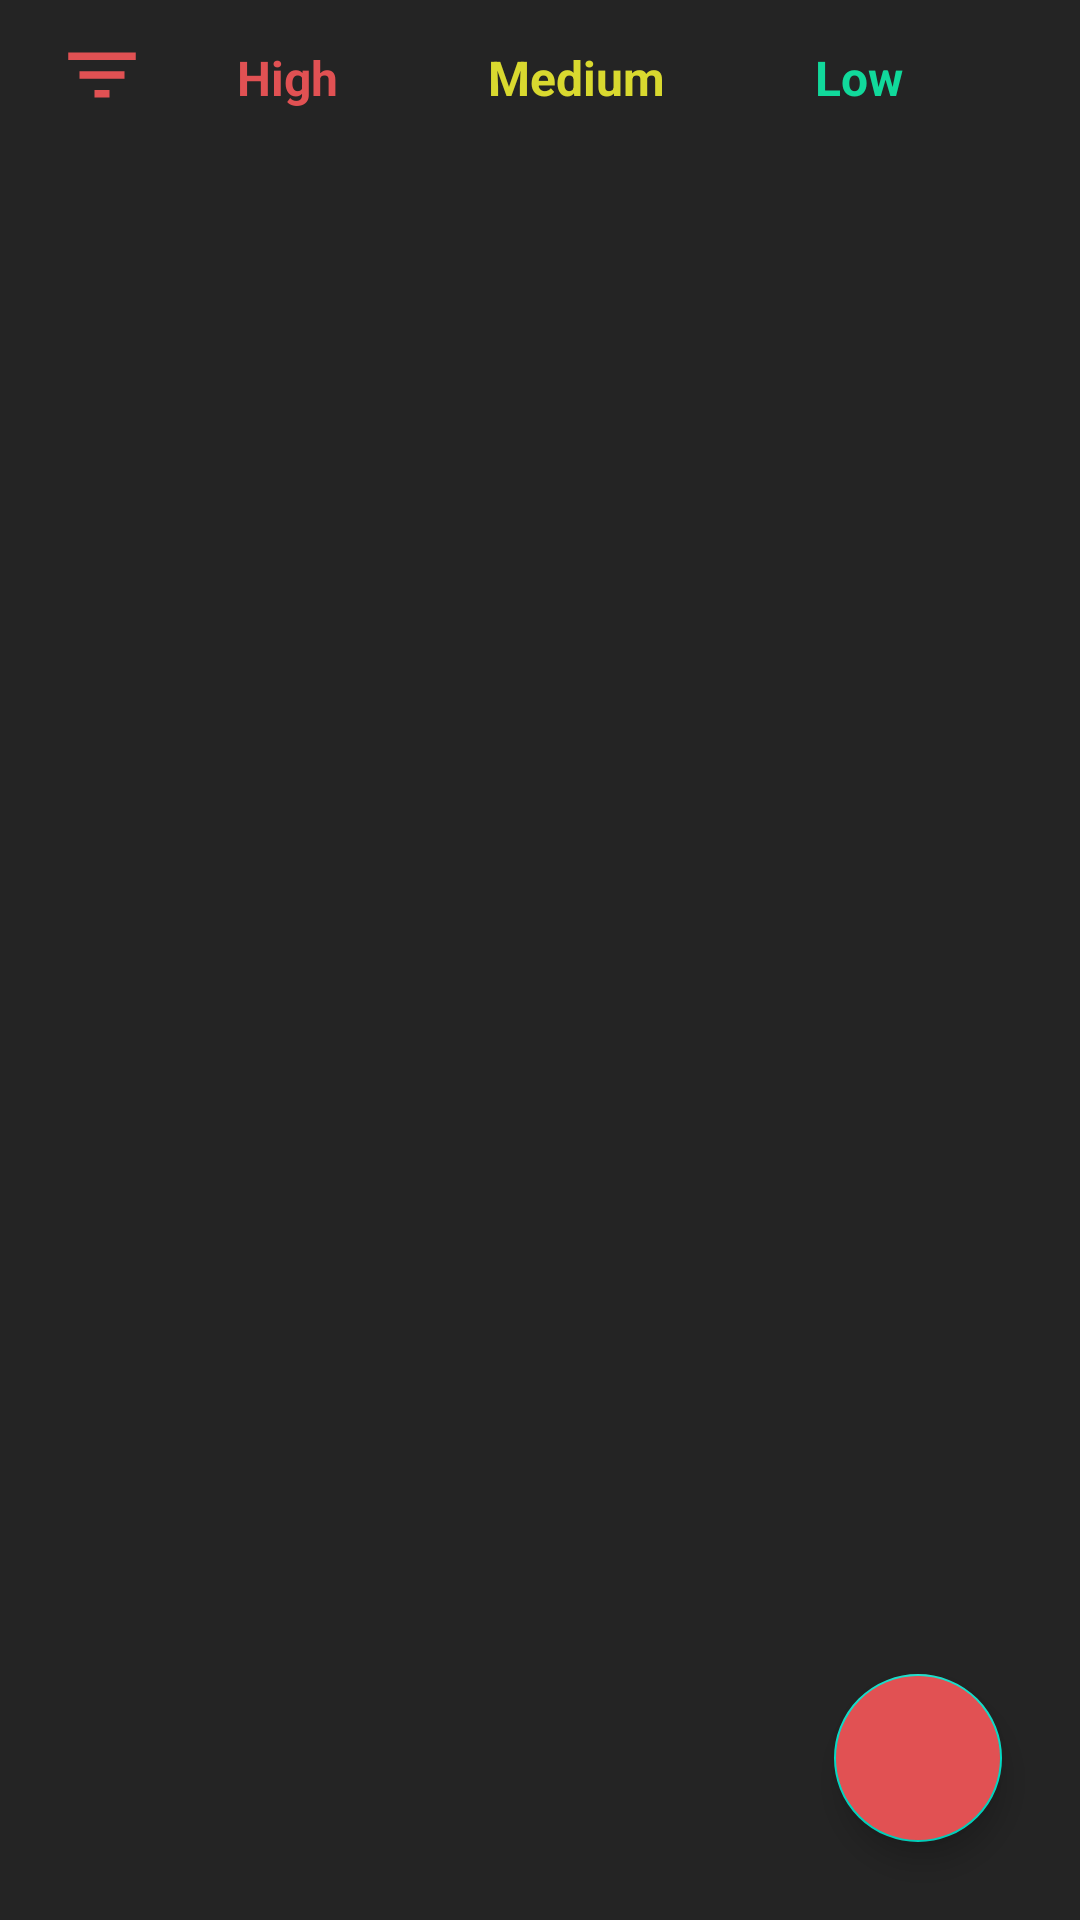

Where to tap for icons on this 1080px x 1920px app screen, as [x,y]:
Filter Button: [102,75]
